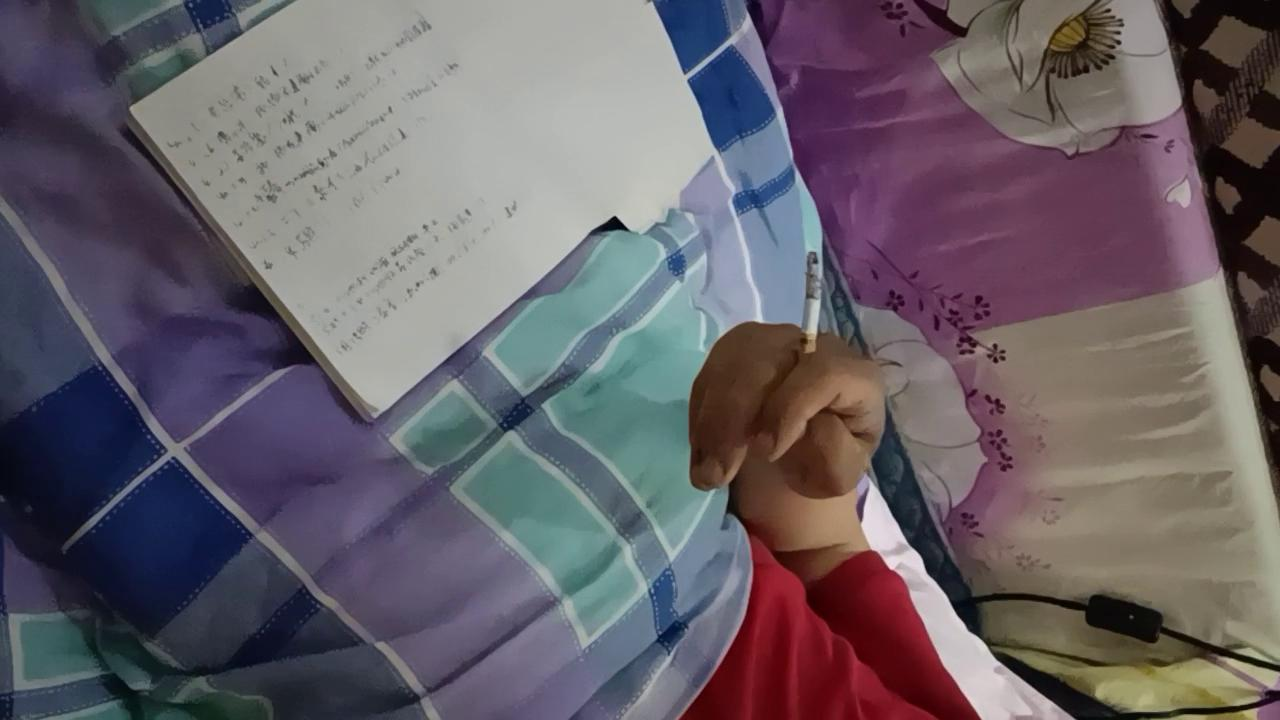smoke: (793, 249, 823, 386)
